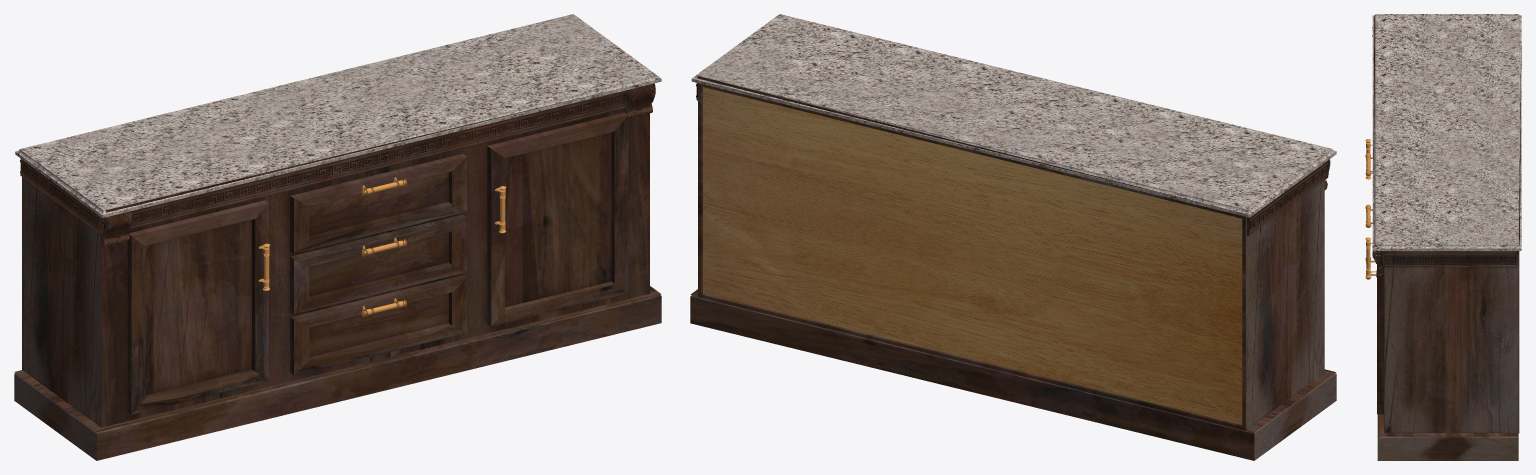
Rendered from Lotta tra Como.fbx.
3 renders of one model, left to right at view 1: azimuth 30°, elevation 25°; view 2: azimuth 150°, elevation 25°; view 3: azimuth 270°, elevation 25°, orthographic. The views are drawn at different scales.
Parts seen in each view (by area): view 1: LR_Como1, Extrude, Ottoni; view 2: Plainwood, Extrude, LR_Como1; view 3: Extrude, LR_Como1, Ottoni.
Boxes of the visible parts, x1,y1,x2,y2 form: LR_Como1: (14, 83, 661, 460); Extrude: (15, 14, 661, 217); Ottoni: (258, 177, 506, 316); Plainwood: (703, 87, 1242, 424); Extrude: (691, 14, 1336, 217); LR_Como1: (690, 76, 1336, 460); Extrude: (1372, 14, 1521, 250); LR_Como1: (1372, 16, 1521, 460); Ottoni: (1365, 139, 1376, 279).
Bounding box in the file's own units: 206 × 87.09 × 57.66.
